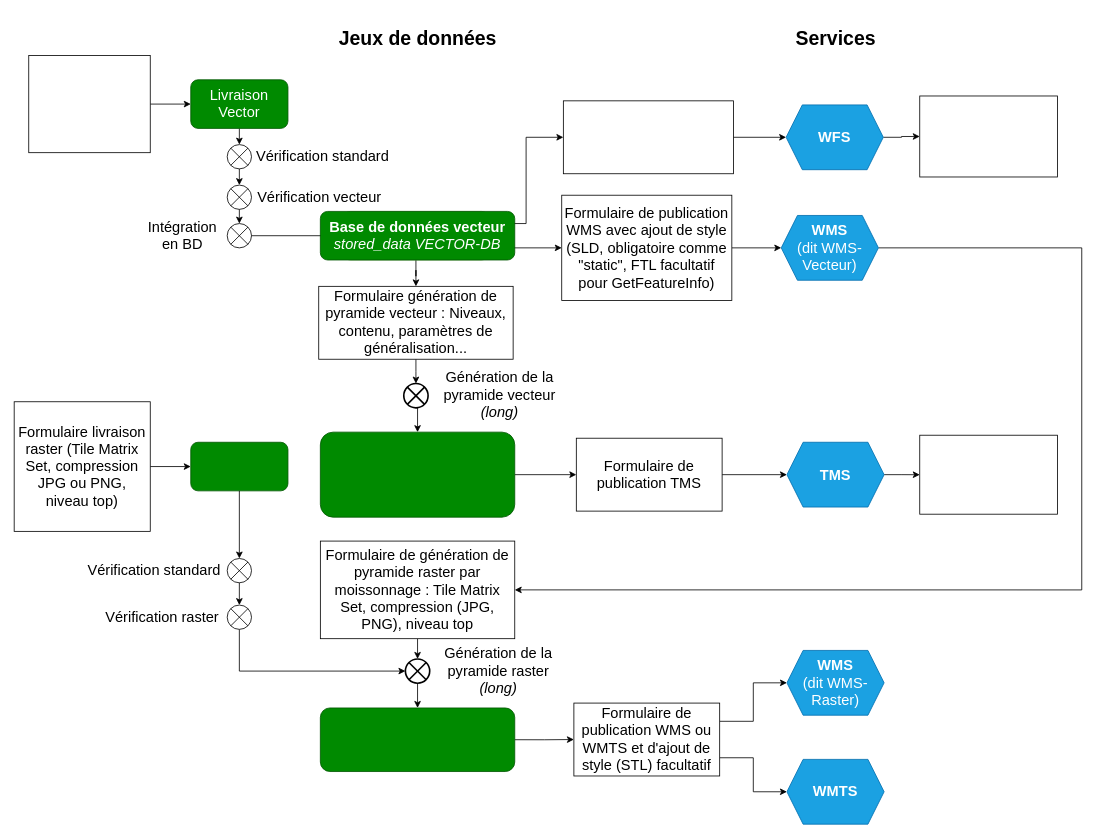
This 1102x838 diagram has some shape labels left out. The box of each missing label's shape, as (x1, y1, x2, y2) in pixels:
Ajout de styles comme annexes au format MbStyle (facultatif): (919, 434, 1057, 514)
Ajout de styles comme annexes sans format privilégié (facultatif): (919, 95, 1057, 177)
Formulaire de livraison vecteur (nom, fichier, projection): (28, 55, 150, 153)
Formulaire de publication WFS: (563, 100, 733, 174)
Livraison Raster: (190, 441, 288, 491)
Pyramide d'images stored_data ROK4-PYRAMID-RASTER: (320, 707, 515, 772)
Pyramide de tuiles vectorielles stored_data ROK4-PYRAMID-VECTOR: (320, 431, 515, 517)
